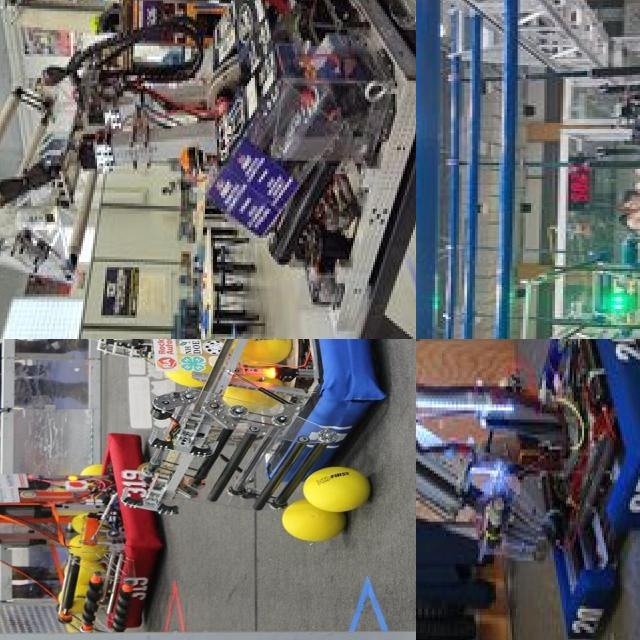FRC-Robots: (0, 0, 416, 324), (0, 339, 399, 560), (416, 339, 640, 613), (443, 0, 640, 191), (0, 422, 167, 640), (438, 214, 640, 339)
